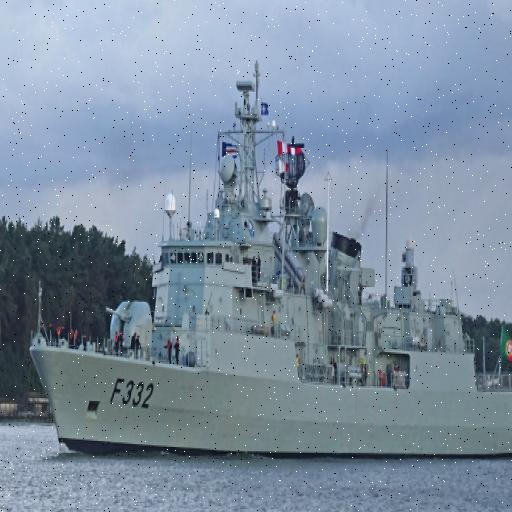Fragata: (26, 62, 512, 463)
